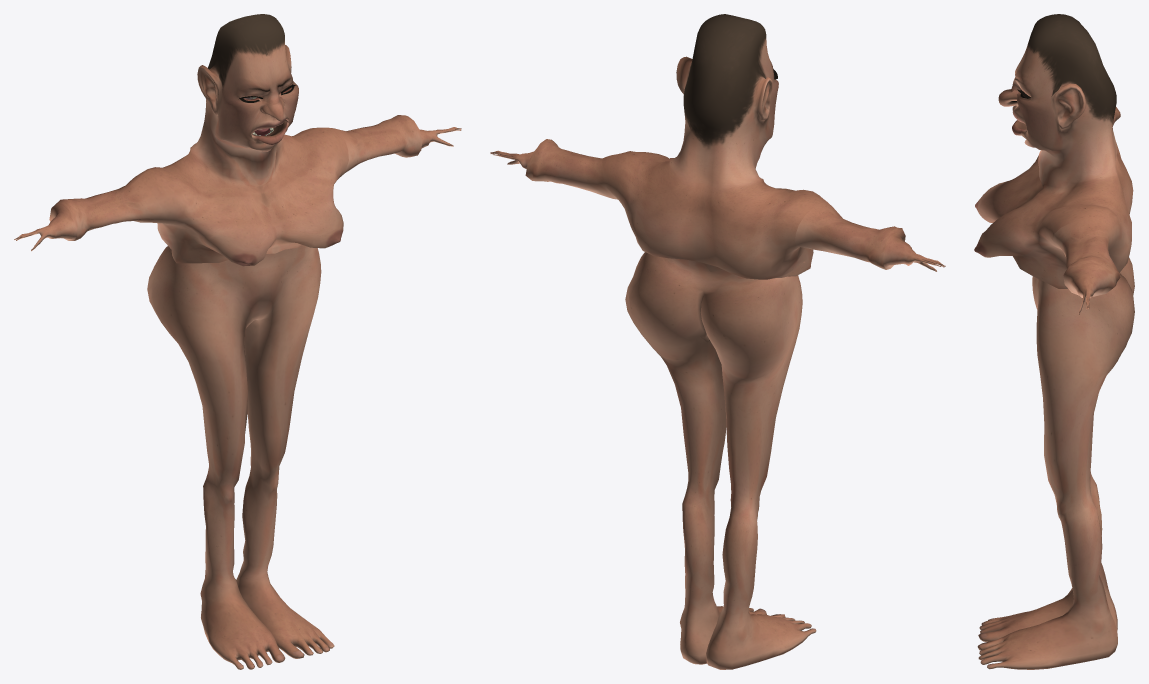
Rendered from FuseIDKkanskeFunkarNUMERODOS.obj.
3 views of the same model, side by side, from view 1: azimuth 30°, elevation 25°; view 2: azimuth 150°, elevation 25°; view 3: azimuth 270°, elevation 25° (orthographic).
Parts seen in each view (by area): view 1: Body; view 2: Body; view 3: Body.
Part boxes in pixels (box(x1,y1,x2,y2)): Body: box(14, 14, 461, 669); Body: box(490, 14, 945, 669); Body: box(974, 14, 1134, 669).
Size of the model in its own units: 162 by 214 by 49.74.
Materials: 1 (1 with a texture image).
